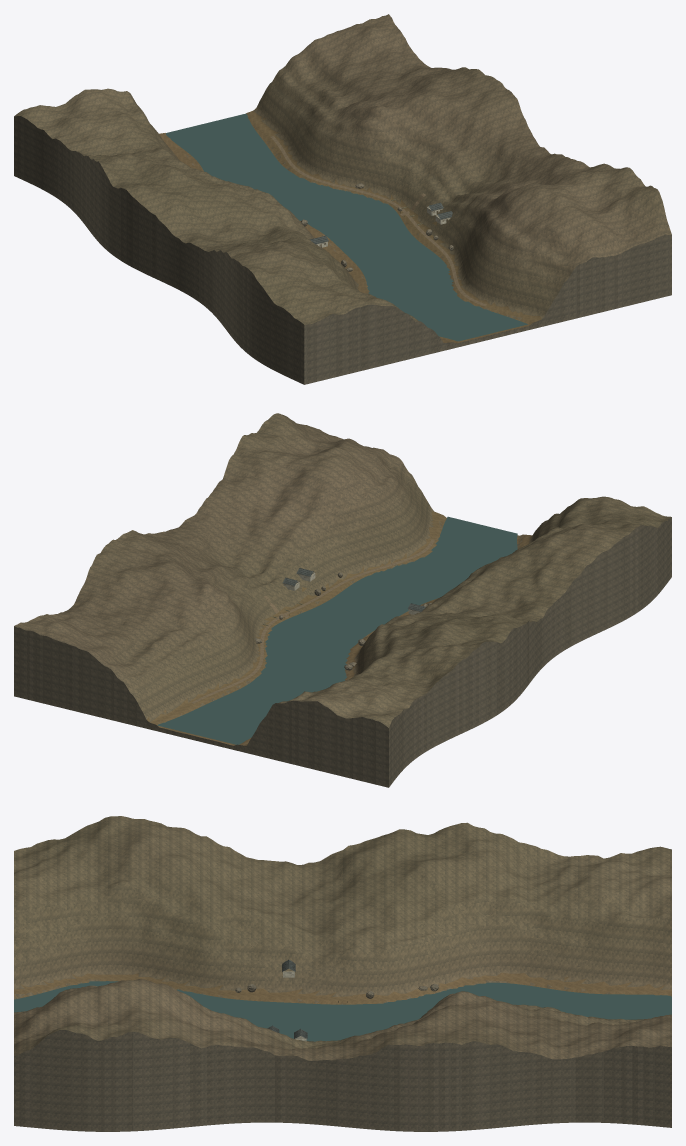
The model's file is ch06_anshunchang_crossing.glb.
3 renders of one model, top to bottom at view 1: azimuth 30°, elevation 25°; view 2: azimuth 150°, elevation 25°; view 3: azimuth 270°, elevation 25°, orthographic. The views are drawn at different scales.
Parts seen in each view (by area): view 1: terrain__eroded_landscape, terrain_boundary__closed_earth_boundary, water_placeholder__river_waterline, bank_path__bank_path; view 2: terrain__eroded_landscape, terrain_boundary__closed_earth_boundary, water_placeholder__river_waterline, bank_path__bank_path; view 3: terrain__eroded_landscape, terrain_boundary__closed_earth_boundary, water_placeholder__river_waterline.
Boxes of the visible parts, x1,y1,x2,y2 form: terrain__eroded_landscape: (14, 14, 671, 343); terrain_boundary__closed_earth_boundary: (14, 116, 671, 384); water_placeholder__river_waterline: (165, 113, 527, 341); bank_path__bank_path: (270, 136, 486, 305); terrain__eroded_landscape: (14, 413, 671, 745); terrain_boundary__closed_earth_boundary: (14, 517, 671, 787); water_placeholder__river_waterline: (157, 516, 517, 744); bank_path__bank_path: (191, 539, 434, 703); terrain__eroded_landscape: (14, 816, 671, 1060); terrain_boundary__closed_earth_boundary: (14, 1030, 671, 1131); water_placeholder__river_waterline: (14, 981, 671, 1041).
Size of the model in its own units: 219 by 47.2 by 280.
8 materials, 7 textured.
